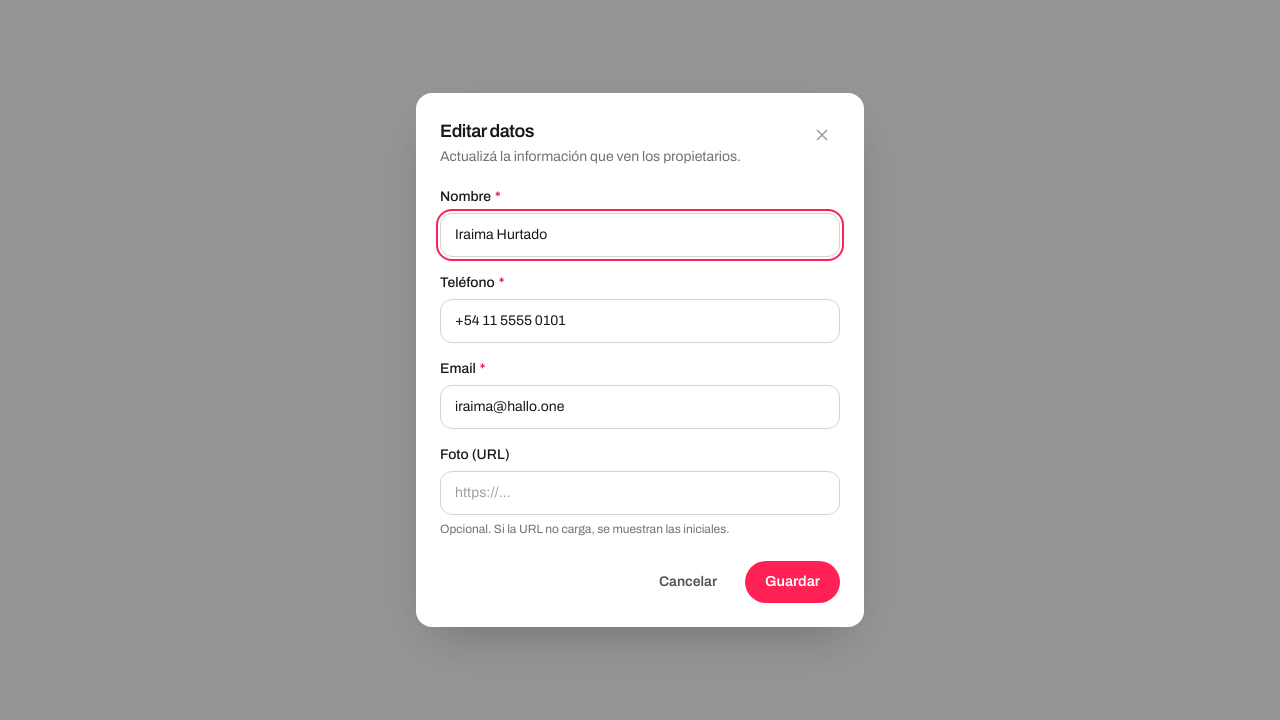
Scenario: ProfileEditModal › rejects an invalid email format
The image size is (1280, 720).
Replace the text in the field labelled "Email *" with "no-es-un-email": (640, 407) [455,397,825,417]
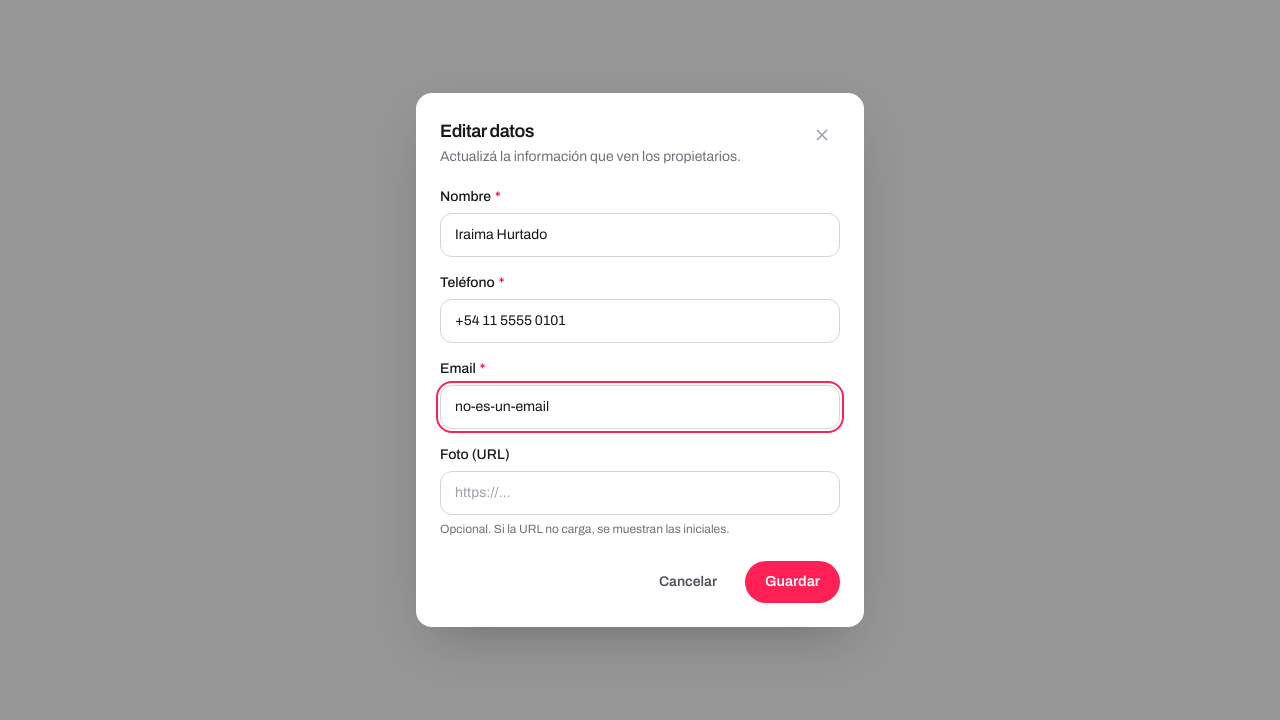
Click the button "Guardar": click(792, 582) [745,561,840,603]
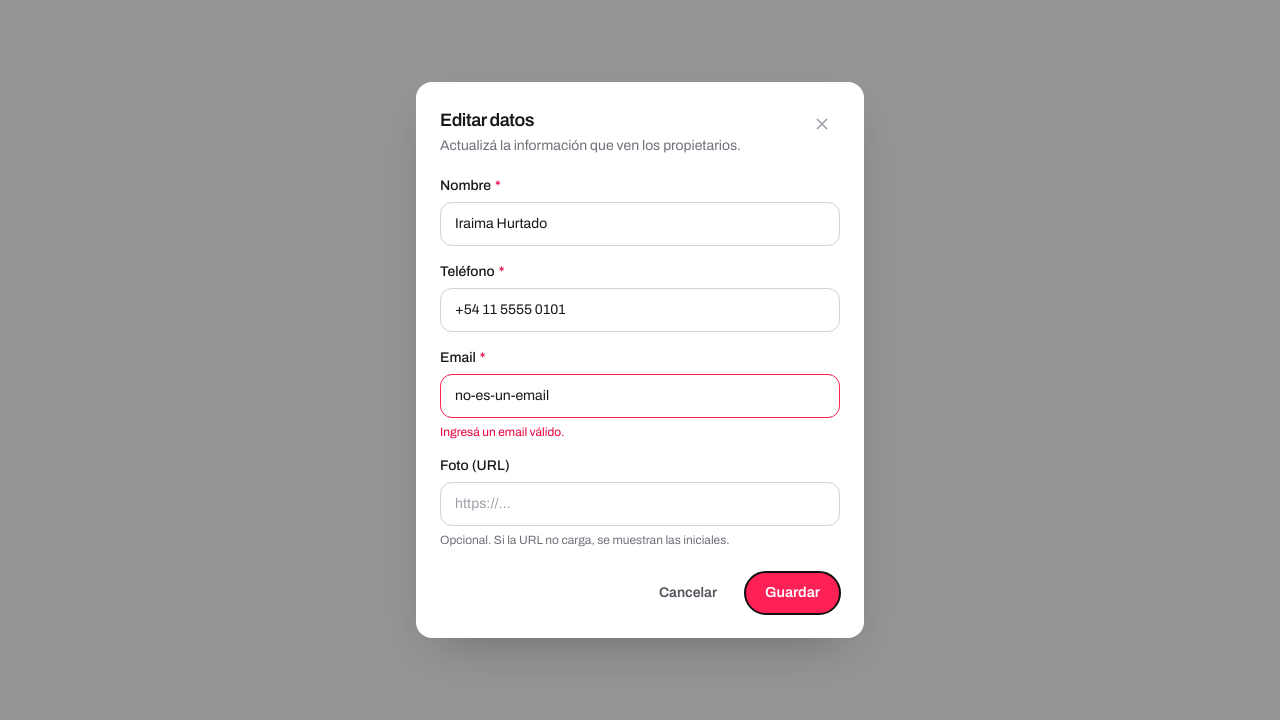
Now the text "Ingresá un email válido." is shown, box [440,425,564,439]
